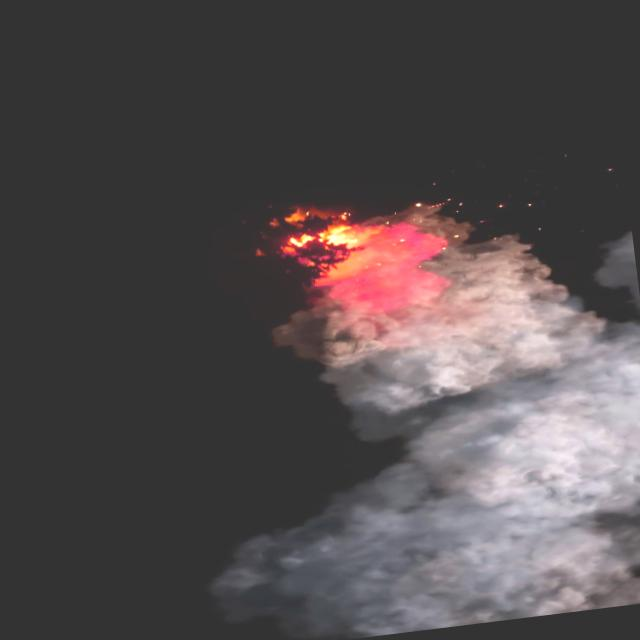fire: (276, 193, 448, 324)
smoke: (174, 183, 640, 640)
